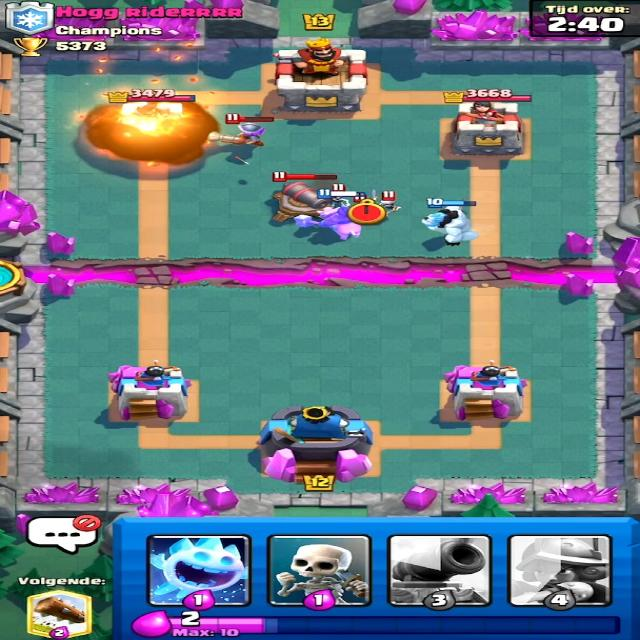Cannon_Card: (384, 535, 487, 607)
Enemy_Cannon_Troop: (265, 180, 339, 223)
Enemy_Musketeer_Troop: (199, 118, 271, 152)
Enemy_Skeleton_Troop: (376, 192, 406, 221)
Hog_Rider_Troop: (295, 205, 360, 243)
Ice_Spirit_Card: (146, 531, 256, 607)
Musketeer_Card: (509, 534, 612, 606)
Skeleton_Card: (257, 540, 378, 610)
